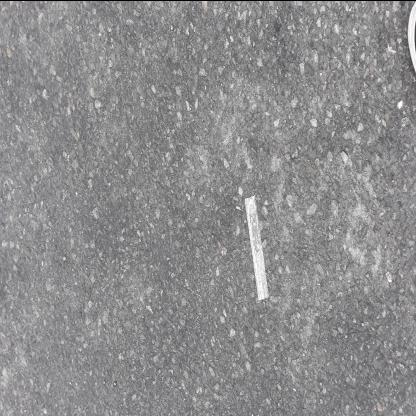plastik: (116, 245, 222, 269)
